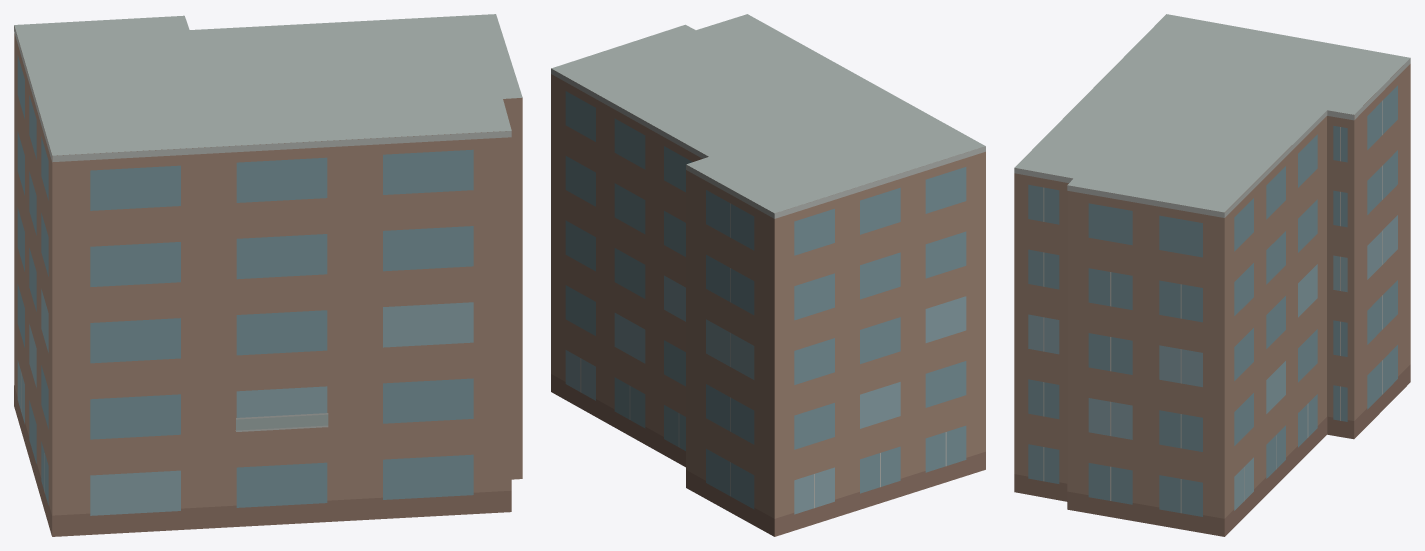
The model's file is survey-upis-32973852.glb.
3 views of the same model, side by side, from view 1: azimuth 30°, elevation 25°; view 2: azimuth 150°, elevation 25°; view 3: azimuth 270°, elevation 25° (orthographic). The views are drawn at different scales.
Visible parts, largest first — view 1: survey-upis-32973852.tmp; view 2: survey-upis-32973852.tmp; view 3: survey-upis-32973852.tmp.
Part boxes in pixels (x1,y1,x2,y2): survey-upis-32973852.tmp: [14, 14, 522, 536]; survey-upis-32973852.tmp: [551, 14, 985, 536]; survey-upis-32973852.tmp: [1014, 14, 1410, 536].
Bounding box in the file's own units: 18.78 × 14.3 × 15.84.
